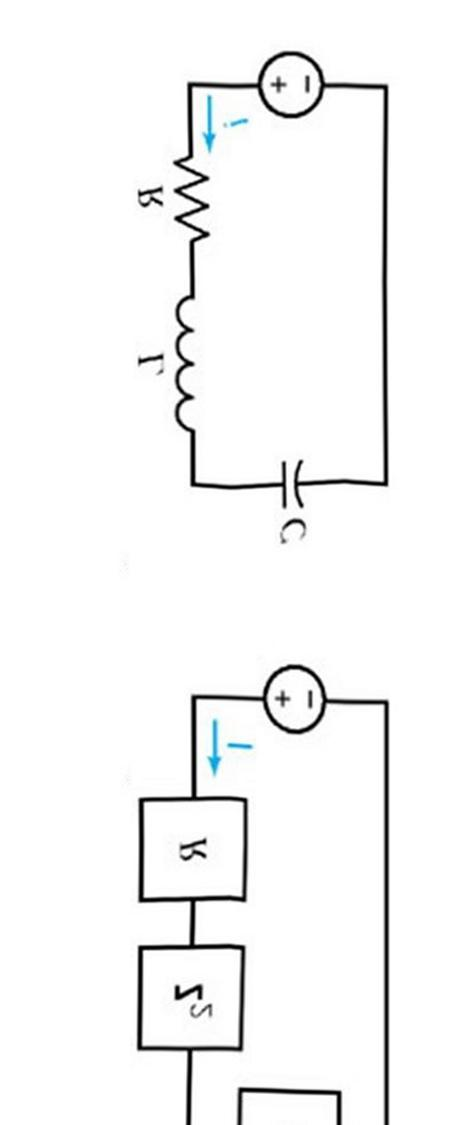Battery: (229, 28, 339, 143), (232, 649, 348, 740)
